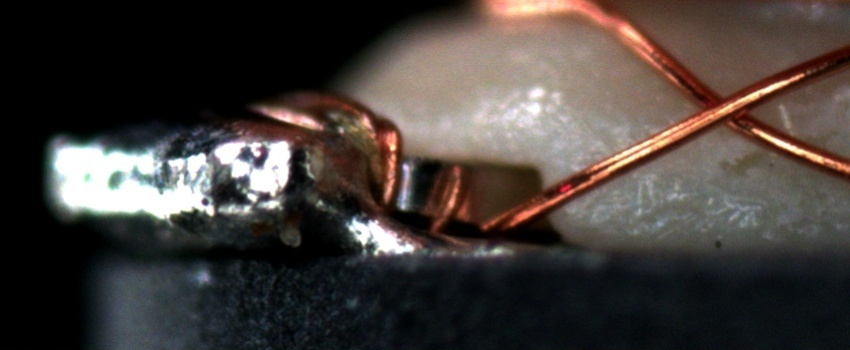CL: (684, 76, 775, 140)
DL: (590, 118, 762, 150)
TE: (254, 87, 474, 237)
